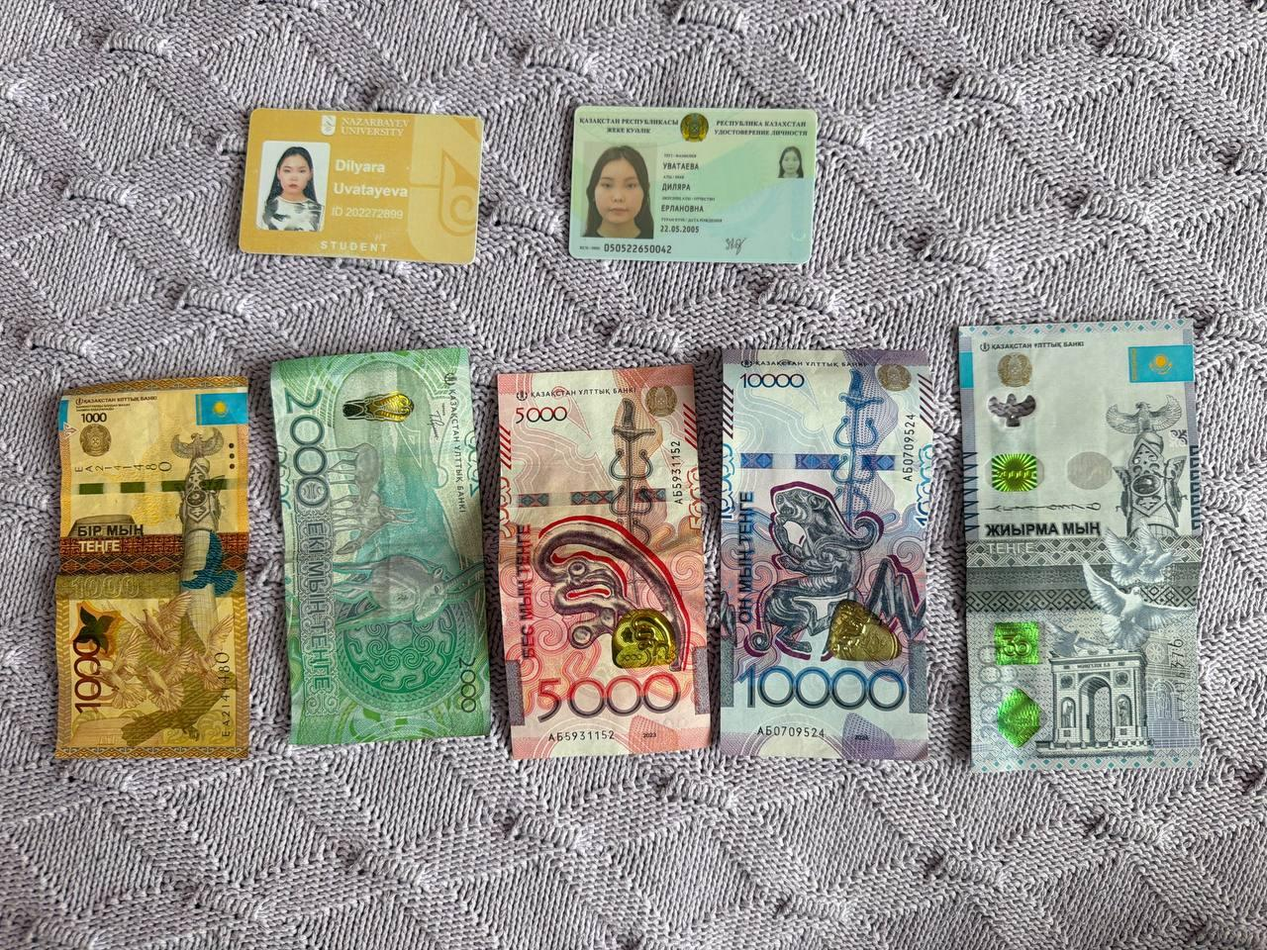cash_stack: (958, 330, 1203, 767), (723, 352, 931, 762), (266, 359, 489, 739), (499, 375, 716, 750), (58, 393, 245, 754)
document: (575, 106, 818, 269)
